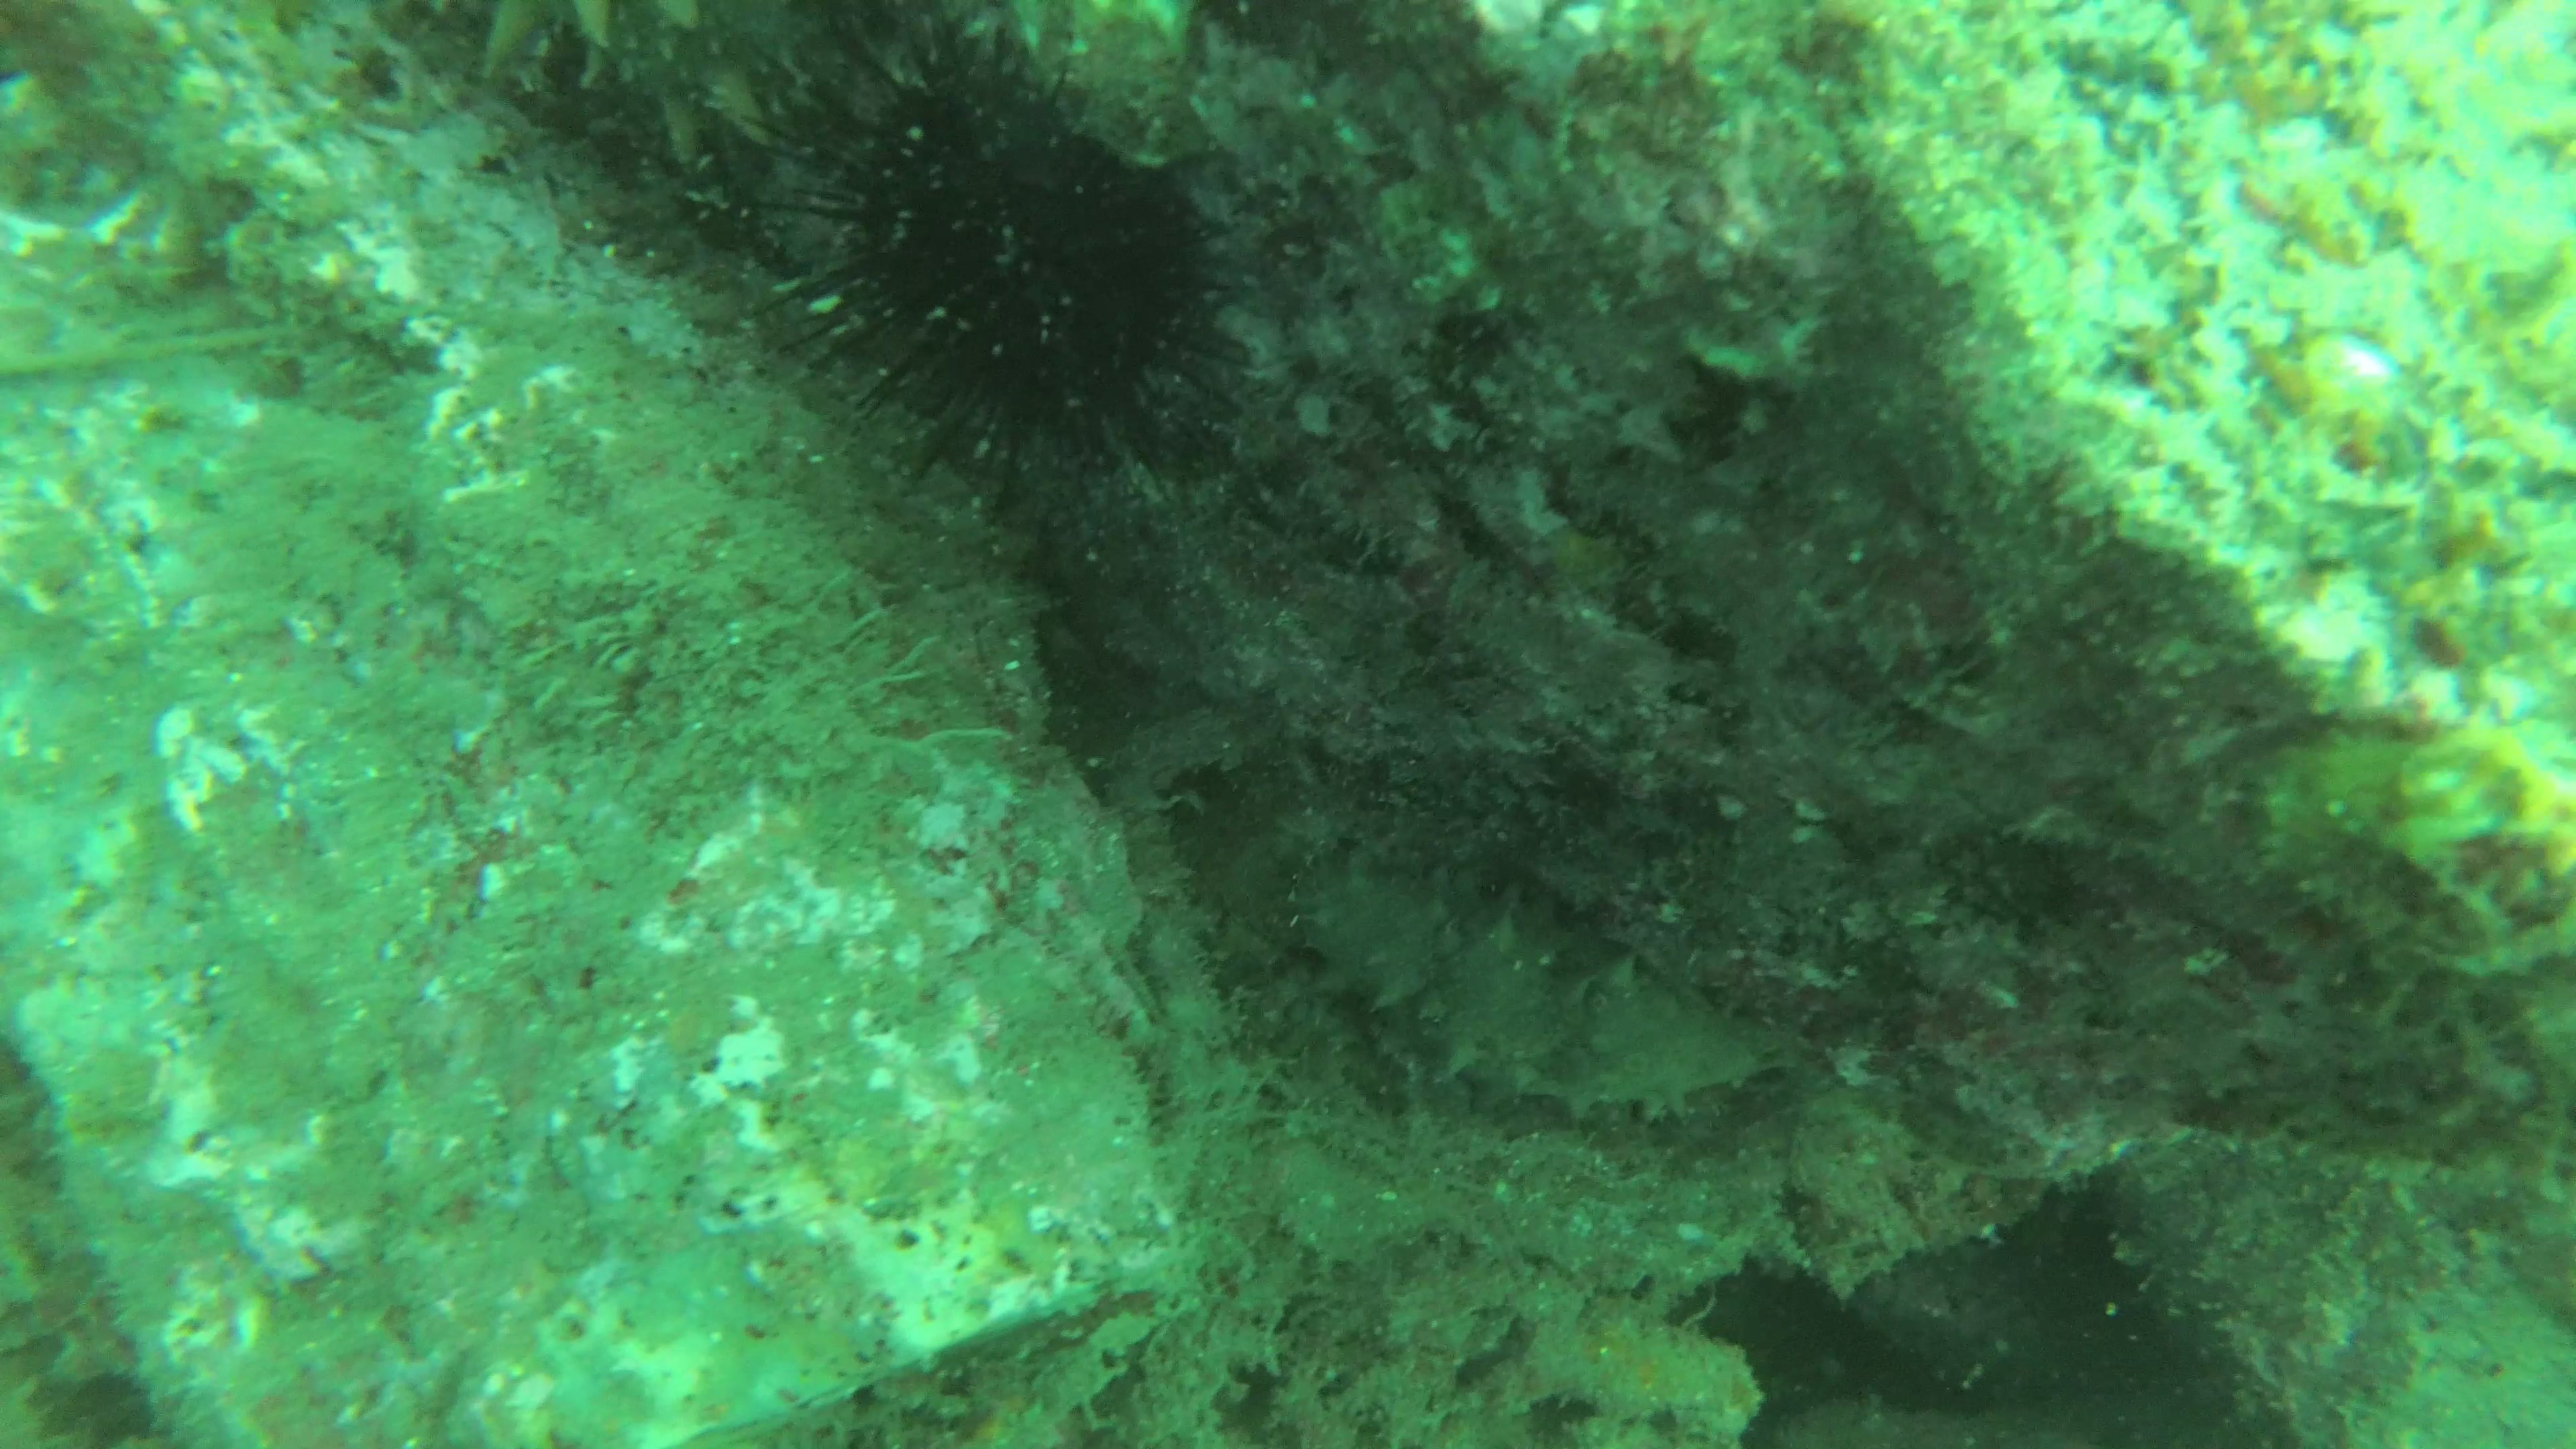echinus: (734, 16, 1265, 517)
holothurian: (1265, 837, 1769, 1136)
